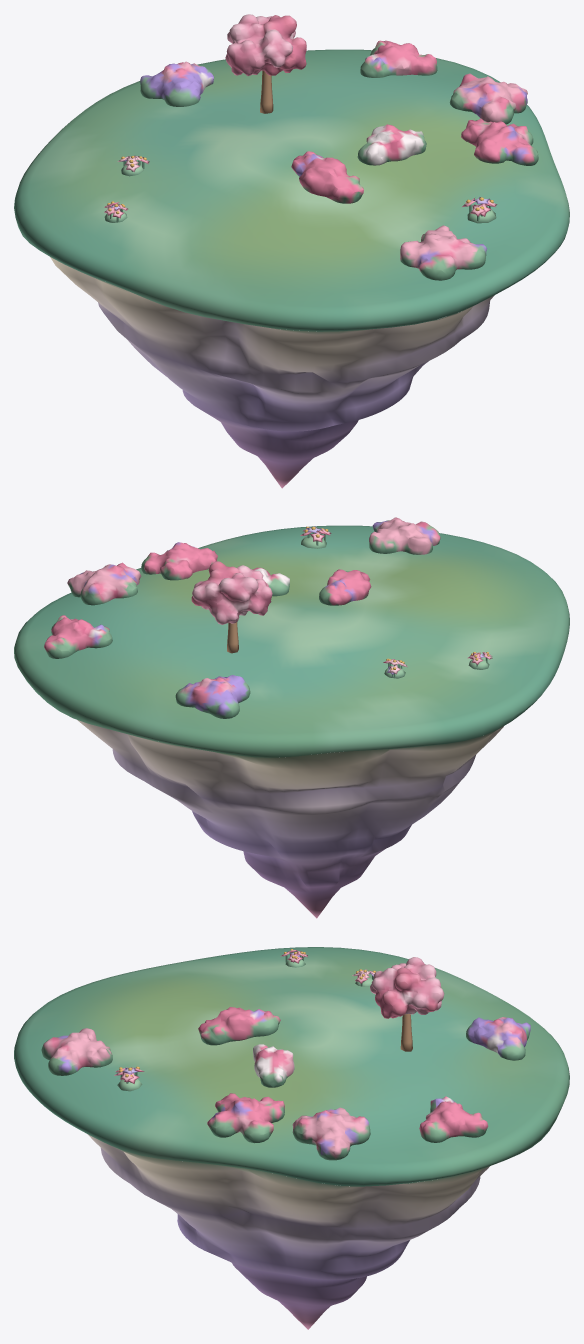
Rendered from island-medium.glb.
3 renders of one model, top to bottom at view 1: azimuth 30°, elevation 25°; view 2: azimuth 150°, elevation 25°; view 3: azimuth 270°, elevation 25°, orthographic. The views are drawn at different scales.
Parts seen in each view (by area): view 1: island-medium; view 2: island-medium; view 3: island-medium.
Part boxes in pixels (x1,y1,x2,y2): island-medium: (14, 14, 569, 488); island-medium: (14, 517, 569, 918); island-medium: (14, 947, 569, 1329).
Size of the model in its own units: 13.48 by 10.6 by 14.
